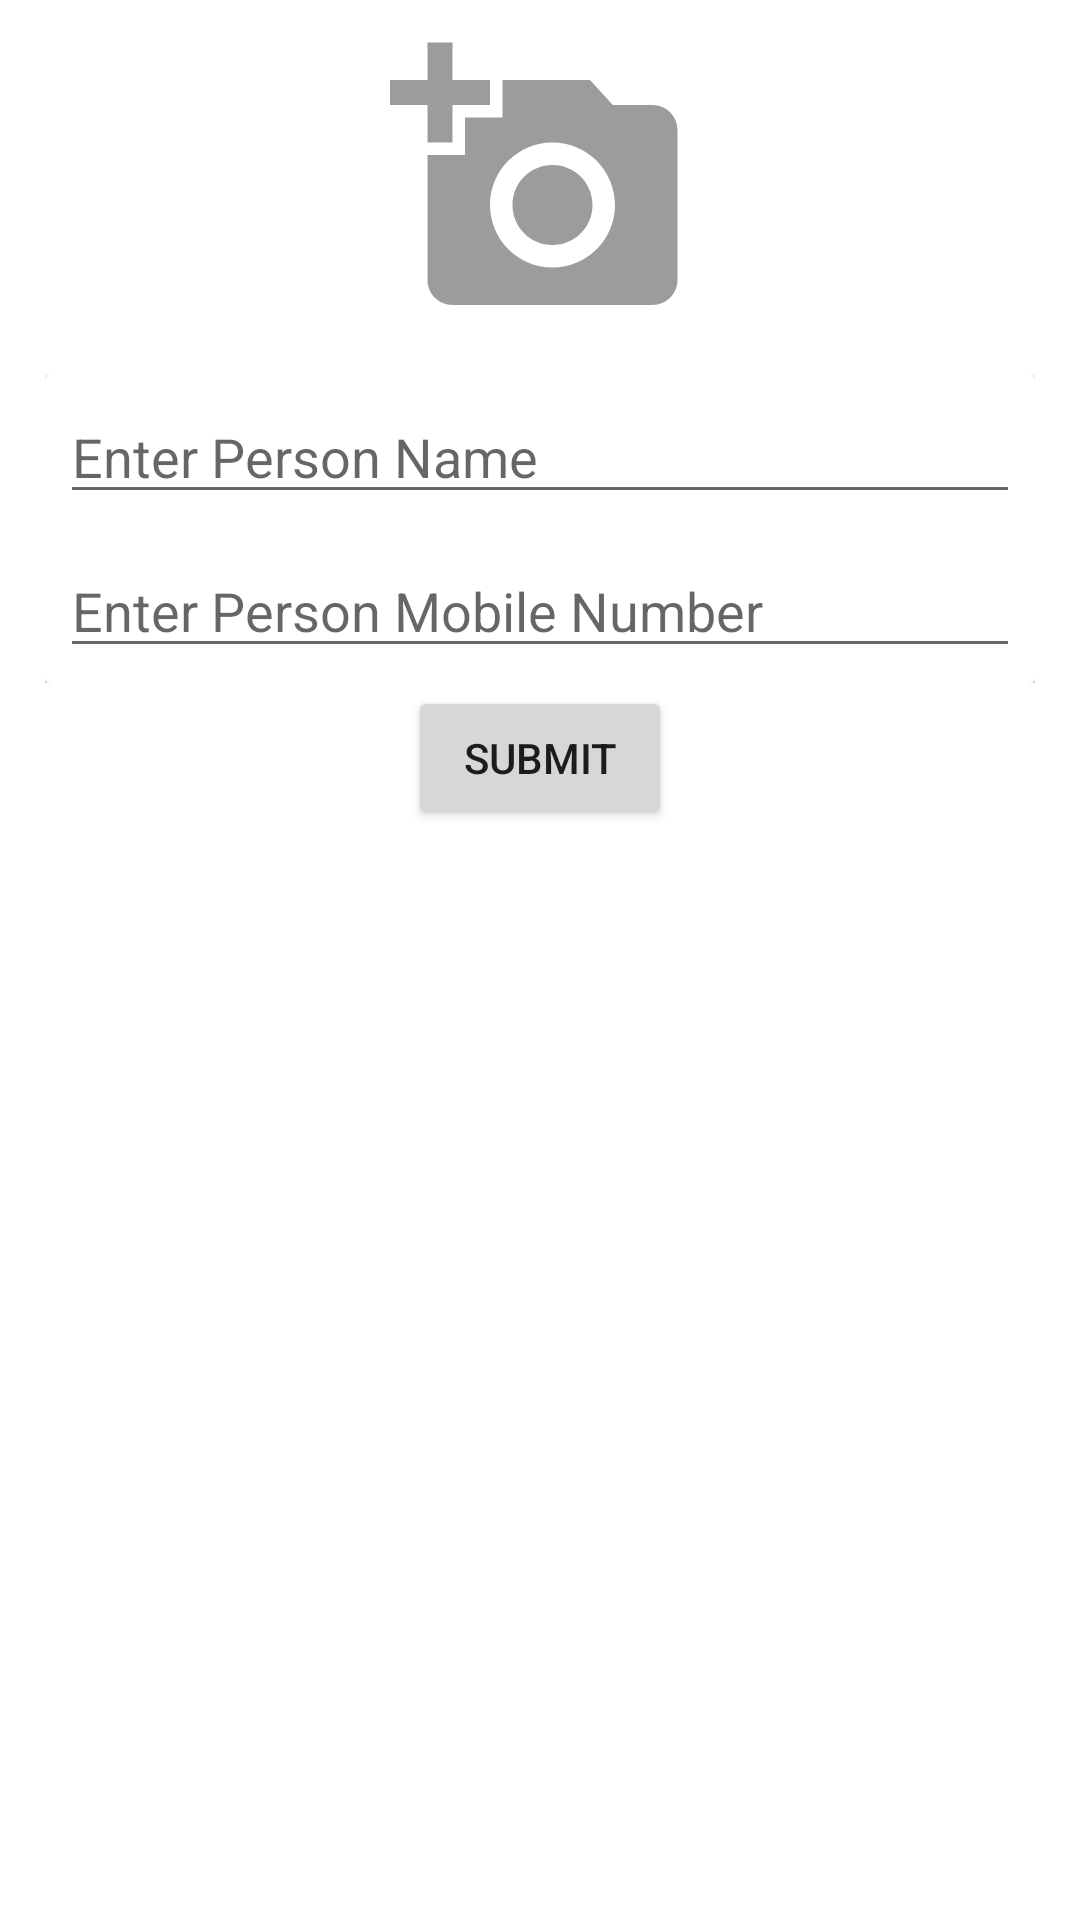

Locate icon controls on the screen. Image size 1080px x 1920px, boxes as (x1, y1, x2, y2).
photo select: (390, 42, 678, 305)
